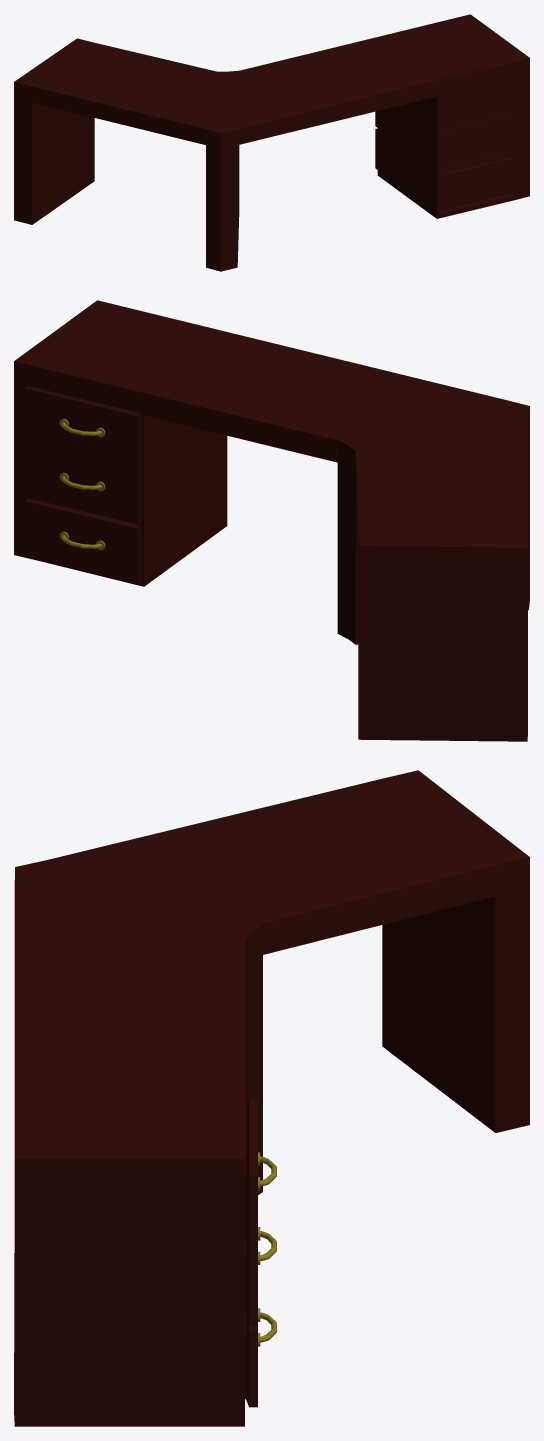
The model's file is esbritorio.fbx.
3 views of the same model, one above another, from view 1: azimuth 30°, elevation 25°; view 2: azimuth 150°, elevation 25°; view 3: azimuth 270°, elevation 25° (orthographic). The views are drawn at different scales.
Visible parts, largest first — view 1: Mesa, Cajon.002, Cajon, Cajon.001; view 2: Mesa, Cajon.002, Cajon, Cajon.001; view 3: Mesa, Cajon, Cajon.002, Cajon.001.
Part boxes in pixels (x1,y1,x2,y2): Mesa: [14, 14, 529, 271]; Cajon.002: [375, 128, 513, 210]; Cajon: [442, 78, 513, 129]; Cajon.001: [375, 111, 513, 168]; Mesa: [14, 300, 529, 741]; Cajon.002: [25, 499, 141, 583]; Cajon: [25, 386, 141, 470]; Cajon.001: [25, 443, 141, 524]; Mesa: [14, 770, 529, 1426]; Cajon: [245, 1099, 276, 1251]; Cajon.002: [245, 1308, 276, 1407]; Cajon.001: [245, 1227, 276, 1325].
Bounding box in the file's own units: 1103 × 355 × 619.
